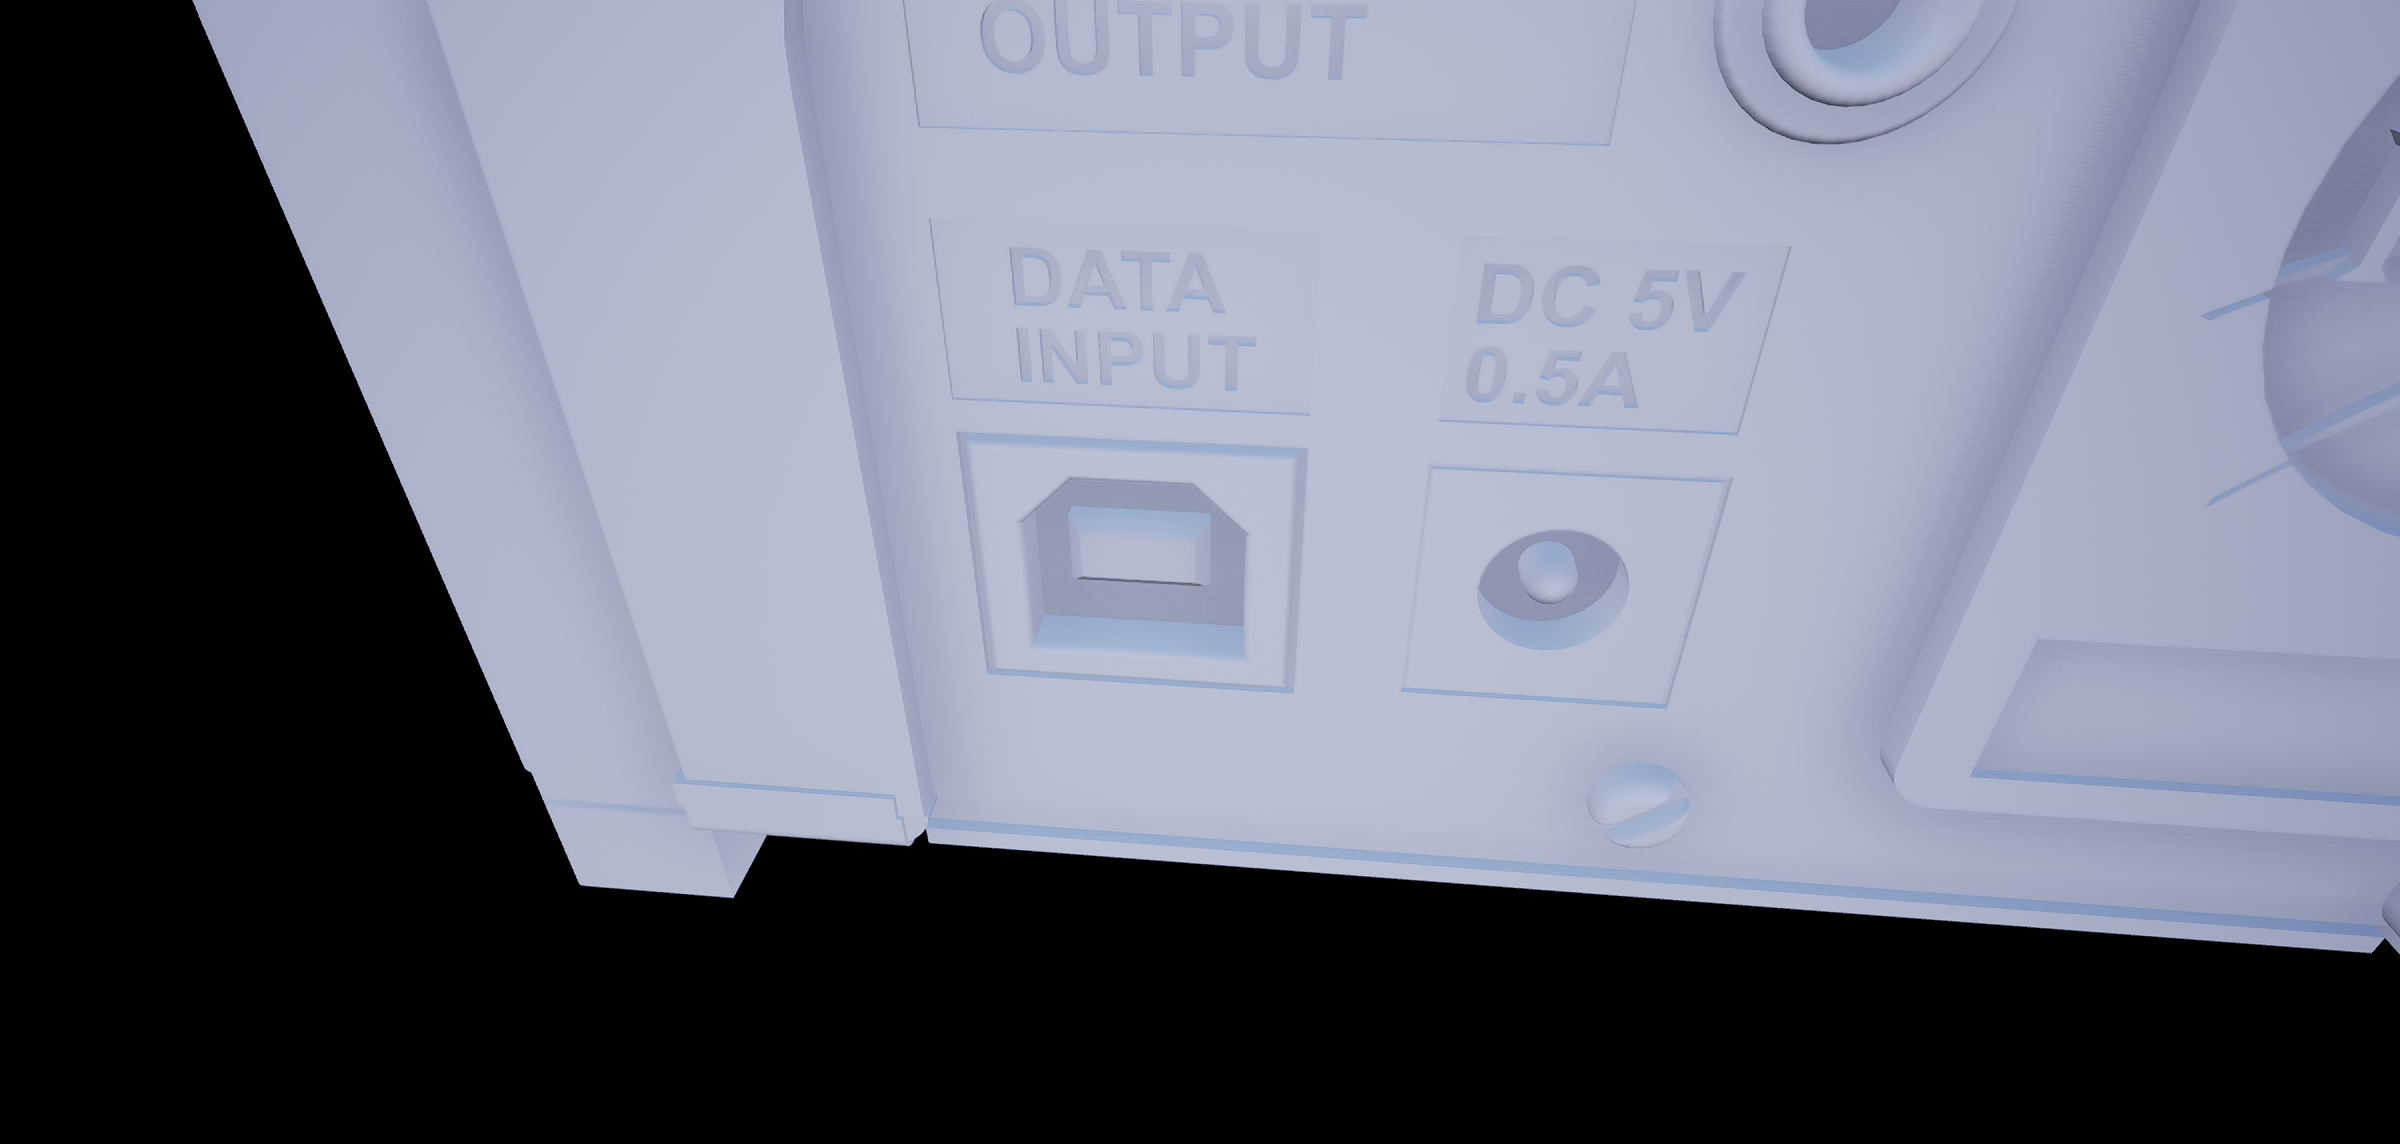aux: (1678, 2, 2040, 155)
dc: (1463, 515, 1645, 662)
usb: (1006, 456, 1278, 691)
